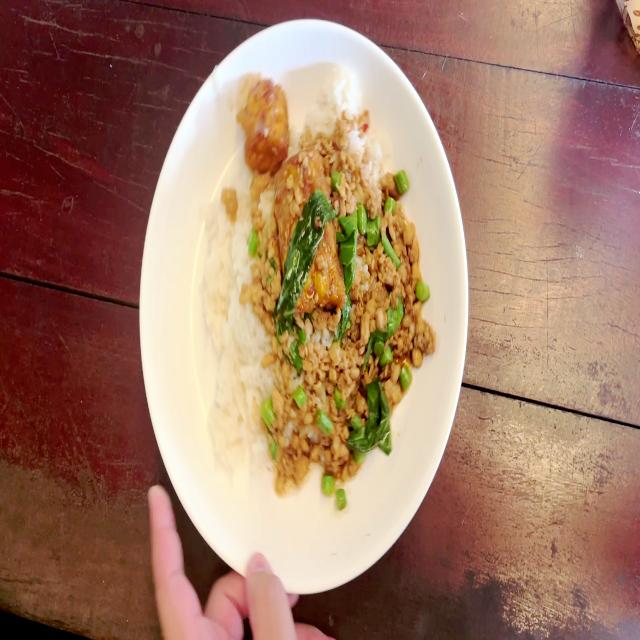fried_tofo: (280, 162, 336, 298), (237, 76, 283, 156)
minced_pork: (266, 315, 437, 493), (338, 128, 430, 315), (249, 172, 280, 330)
rice: (205, 193, 262, 460)
stir_fried_basil: (205, 68, 435, 510)
